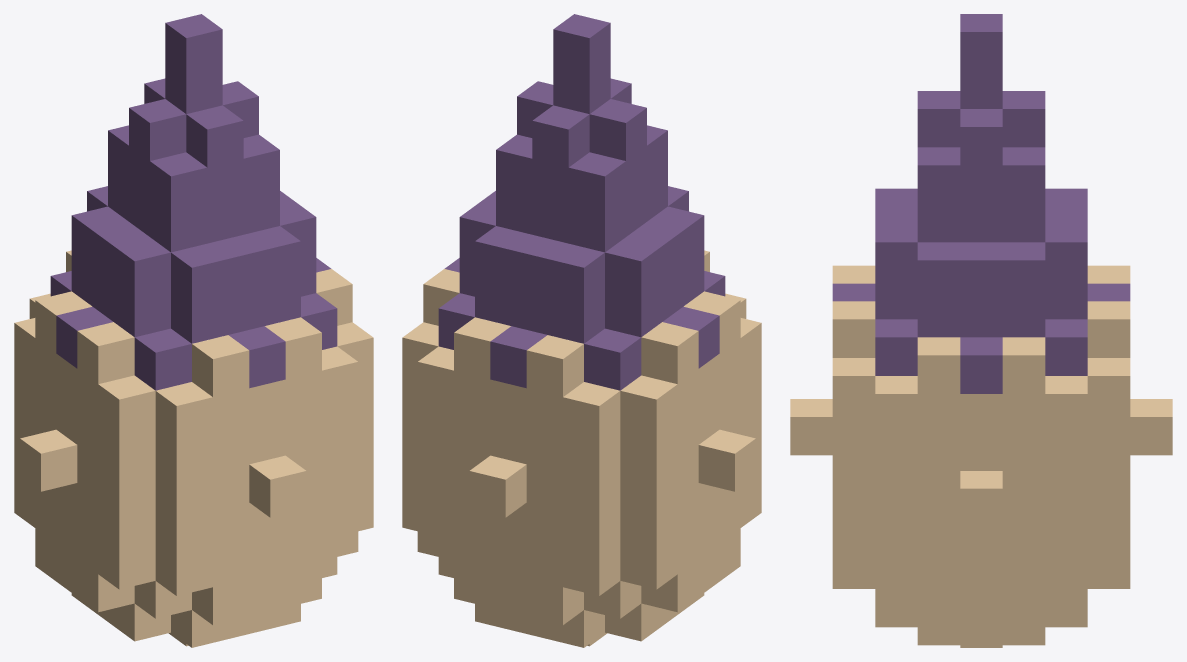
File: alien-biosphere-egg-spire-fbde9a7e__22804.glb
3 renders of one model, left to right at view 1: azimuth 30°, elevation 25°; view 2: azimuth 150°, elevation 25°; view 3: azimuth 270°, elevation 25°, orthographic.
Parts seen in each view (by area): view 1: egg-spire; view 2: egg-spire; view 3: egg-spire.
Boxes of the visible parts, x1,y1,x2,y2 form: egg-spire: (14, 14, 373, 647); egg-spire: (402, 14, 761, 647); egg-spire: (790, 14, 1172, 647).
Bounding box in the file's own units: 1.17 × 2.08 × 1.17.
